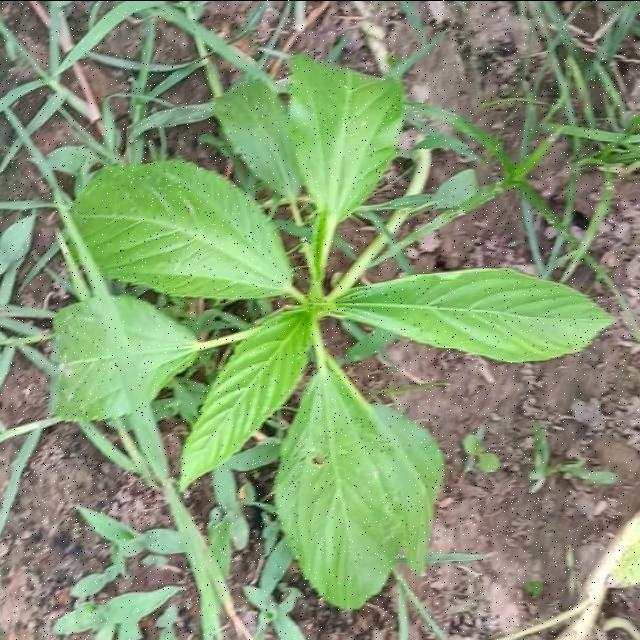plant: (55, 57, 611, 608)
